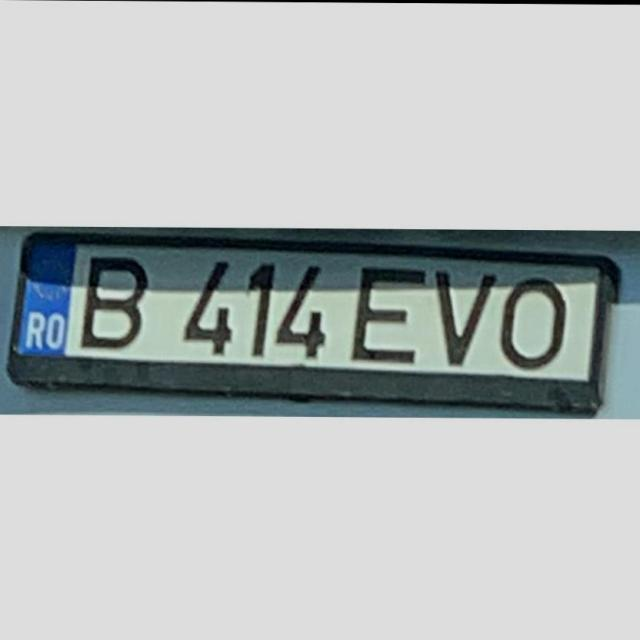license-plates: (10, 234, 620, 411)
